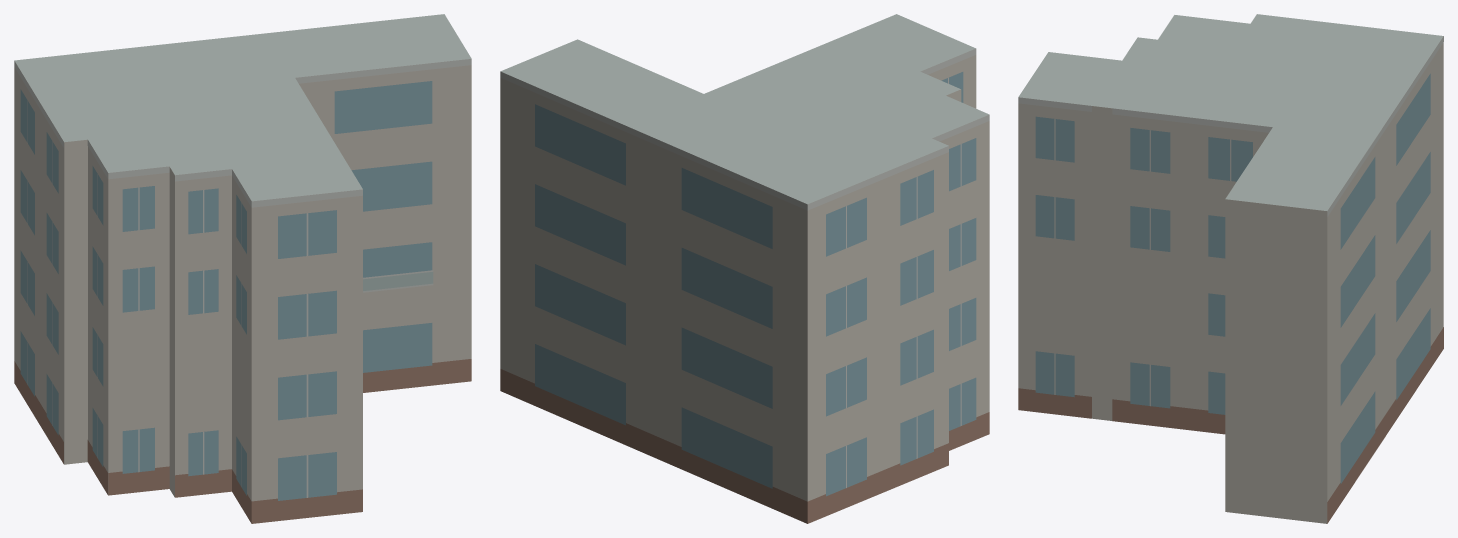
Rendered from survey-upis-32627113.glb.
The picture shows the model from 3 angles, left to right: view 1: azimuth 30°, elevation 25°; view 2: azimuth 150°, elevation 25°; view 3: azimuth 270°, elevation 25°; orthographic projection. The views are drawn at different scales.
Visible parts, largest first — view 1: survey-upis-32627113.tmp; view 2: survey-upis-32627113.tmp; view 3: survey-upis-32627113.tmp.
Part boxes in pixels (bbox=[...]): survey-upis-32627113.tmp: bbox=[14, 14, 471, 523]; survey-upis-32627113.tmp: bbox=[500, 14, 989, 523]; survey-upis-32627113.tmp: bbox=[1018, 14, 1443, 523].
Bounding box in the file's own units: 16.84 × 12.45 × 15.36.
